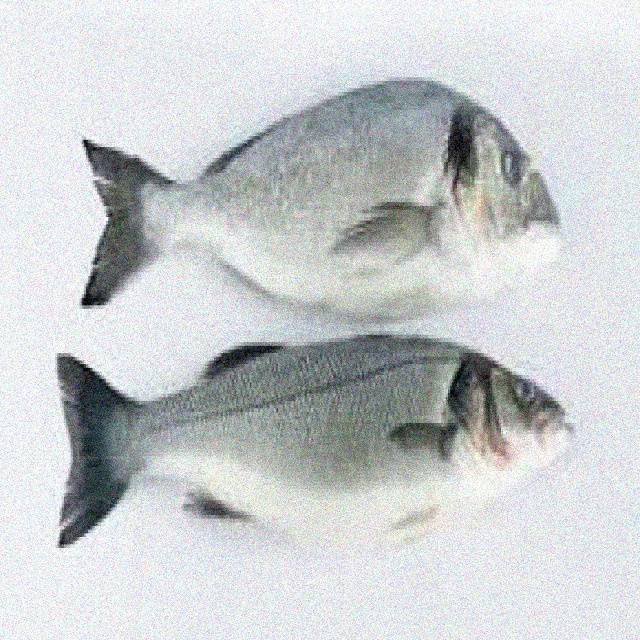Healthy Fish: (46, 331, 584, 565), (62, 74, 568, 322)
